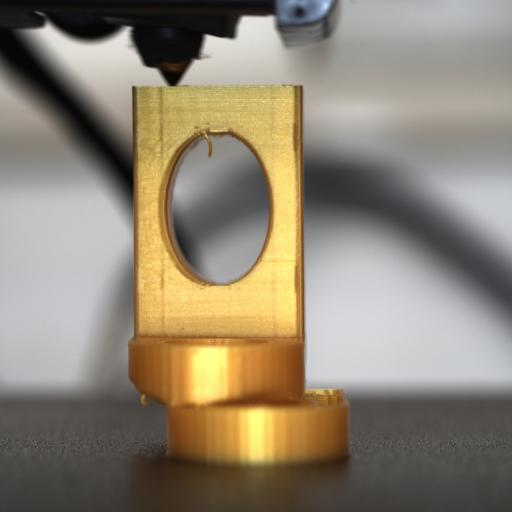layer_shift: (128, 378, 352, 414)
